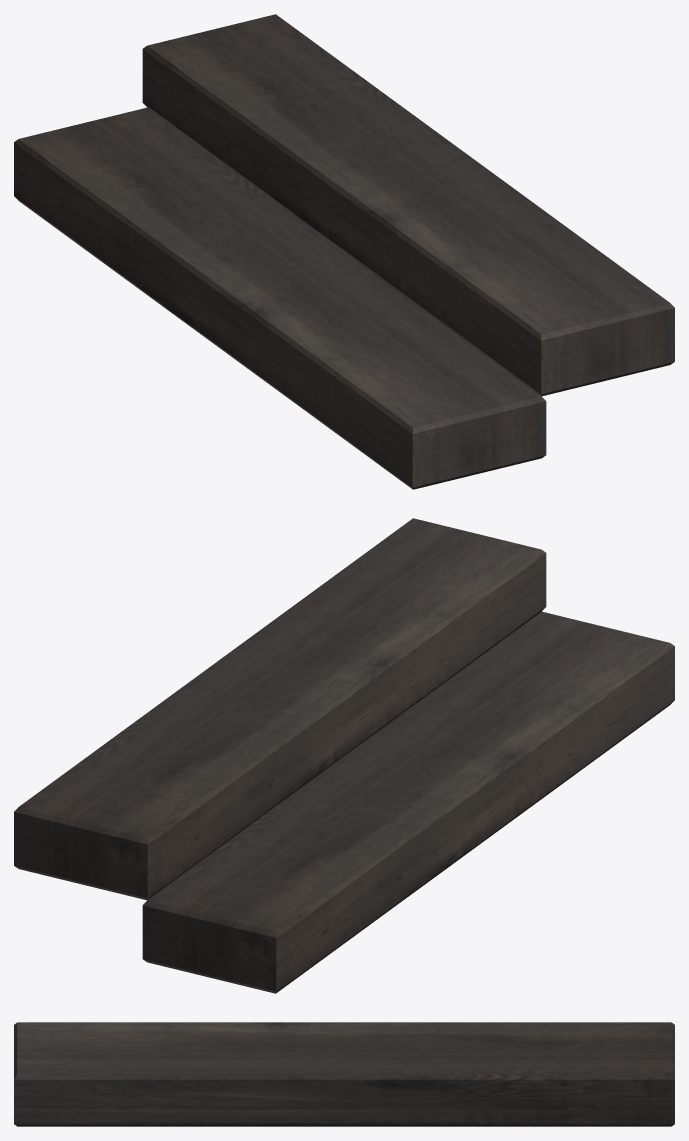
File: SM_Unhyun_Iro_E_Haenggak_Floor_C001.fbx
The picture shows the model from 3 angles, top to bottom: view 1: azimuth 30°, elevation 25°; view 2: azimuth 150°, elevation 25°; view 3: azimuth 270°, elevation 25°; orthographic projection. The views are drawn at different scales.
Visible parts, largest first — view 1: SM_Unhyun_Iro_E_Haenggak_Floor_C001; view 2: SM_Unhyun_Iro_E_Haenggak_Floor_C001; view 3: SM_Unhyun_Iro_E_Haenggak_Floor_C001.
Part boxes in pixels (x1,y1,x2,y2): SM_Unhyun_Iro_E_Haenggak_Floor_C001: [14, 14, 674, 489]; SM_Unhyun_Iro_E_Haenggak_Floor_C001: [14, 518, 674, 993]; SM_Unhyun_Iro_E_Haenggak_Floor_C001: [14, 1022, 674, 1126].
Size of the model in its own units: 66.4 by 29.98 by 175.
